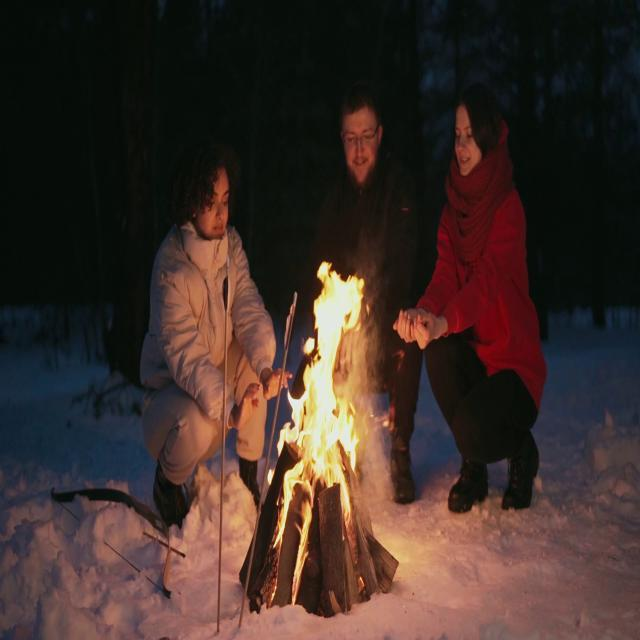Fire: (270, 254, 376, 546)
